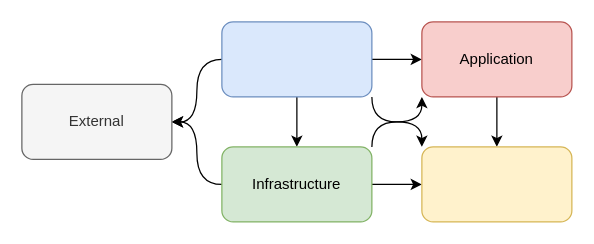
Image size: 594x244. Some labels were removed from this diagram. Here are the shapes that lost their labels. From the top down, the box of each, then its label:
(221, 21, 372, 97): Presentation
(421, 146, 572, 222): Domain
